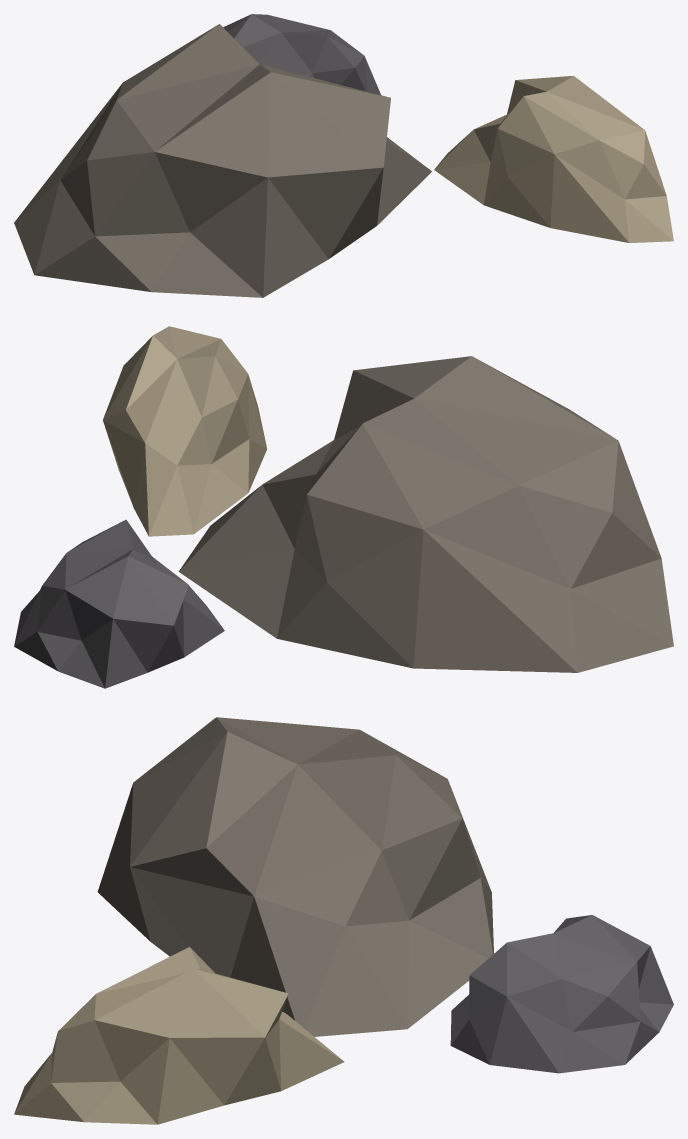
File: beach-pebbles-v1.glb
3 renders of one model, top to bottom at view 1: azimuth 30°, elevation 25°; view 2: azimuth 150°, elevation 25°; view 3: azimuth 270°, elevation 25°, orthographic. The views are drawn at different scales.
Visible parts, largest first — view 1: beach-pebbles-v1; view 2: beach-pebbles-v1; view 3: beach-pebbles-v1.
Part boxes in pixels (bbox=[...]): beach-pebbles-v1: bbox=[14, 14, 673, 297]; beach-pebbles-v1: bbox=[14, 326, 673, 688]; beach-pebbles-v1: bbox=[14, 717, 673, 1124].
Size of the model in its own units: 0.6289 by 0.2 by 0.5694.
